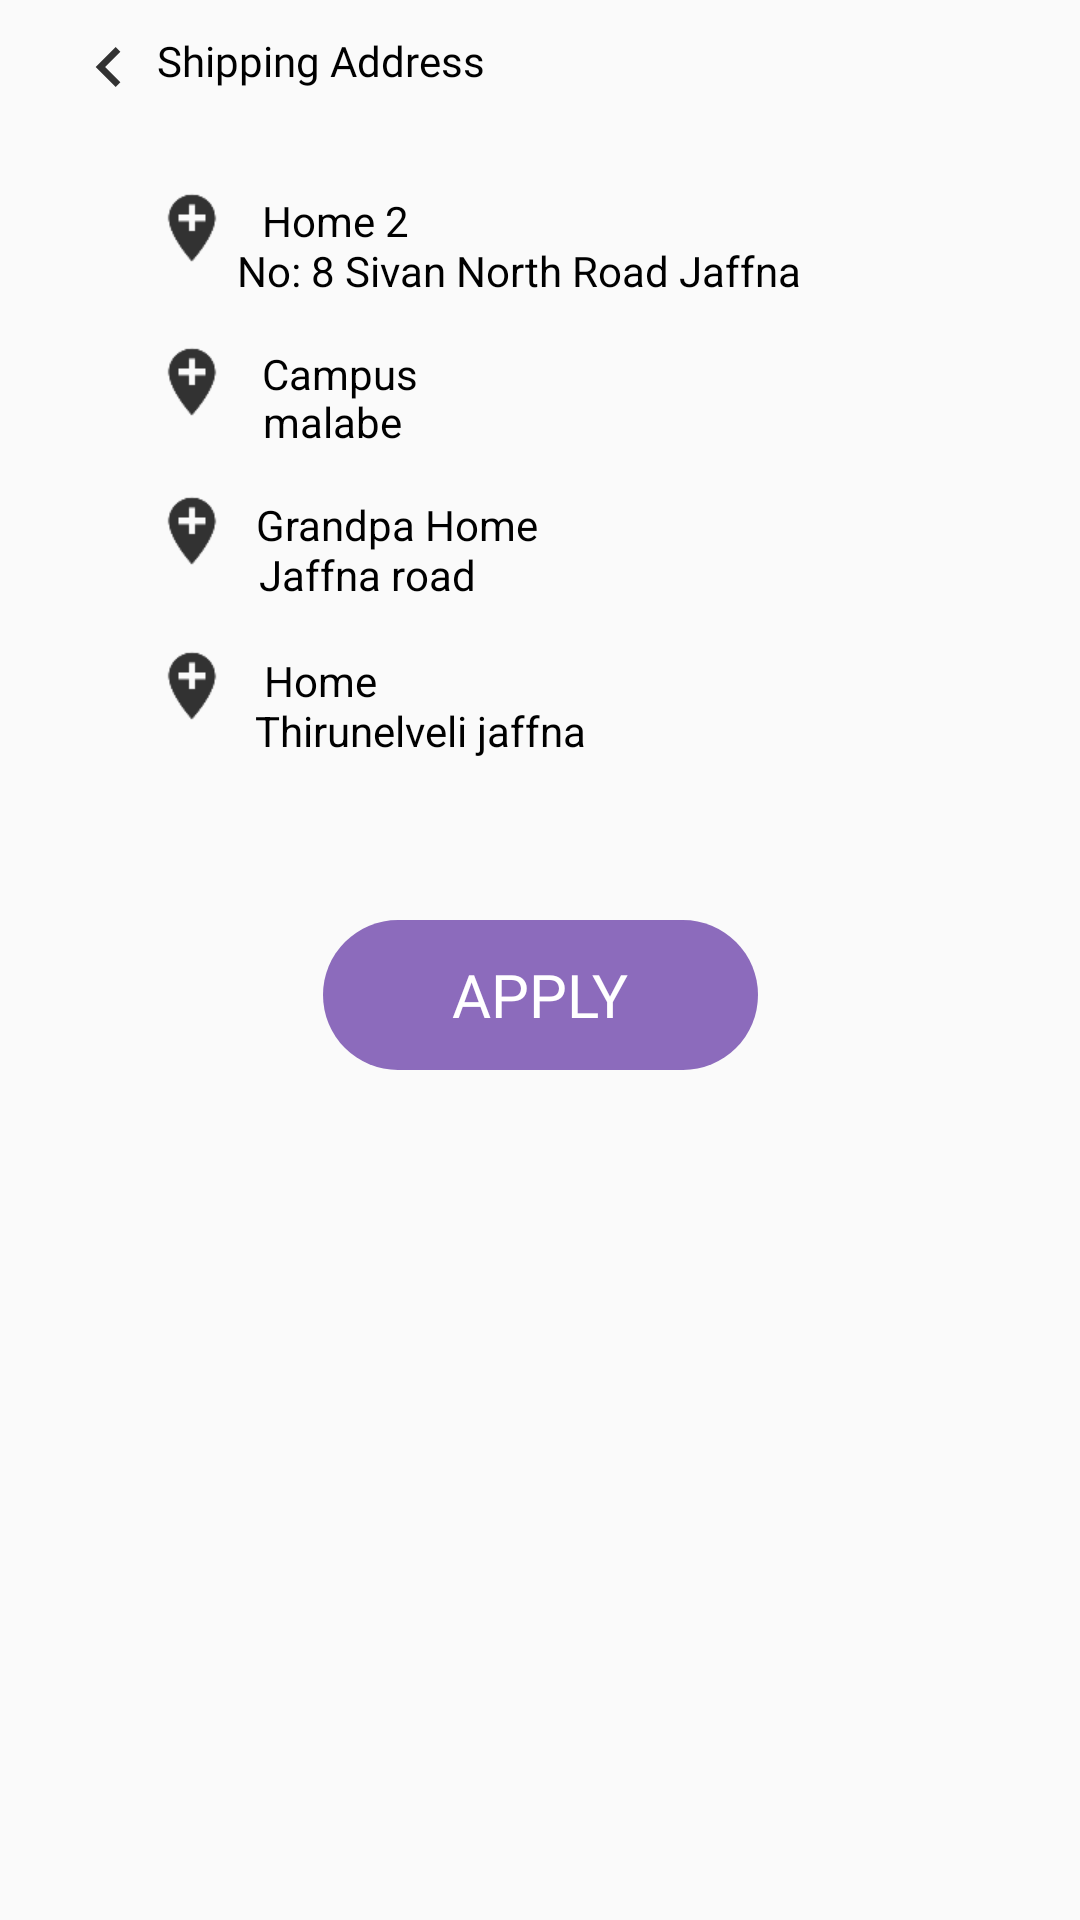

Icon bounding boxes for this 1080 × 1920 phone screenshot, format (x1, y1, x2, y2):
back: (96, 47, 121, 87)
